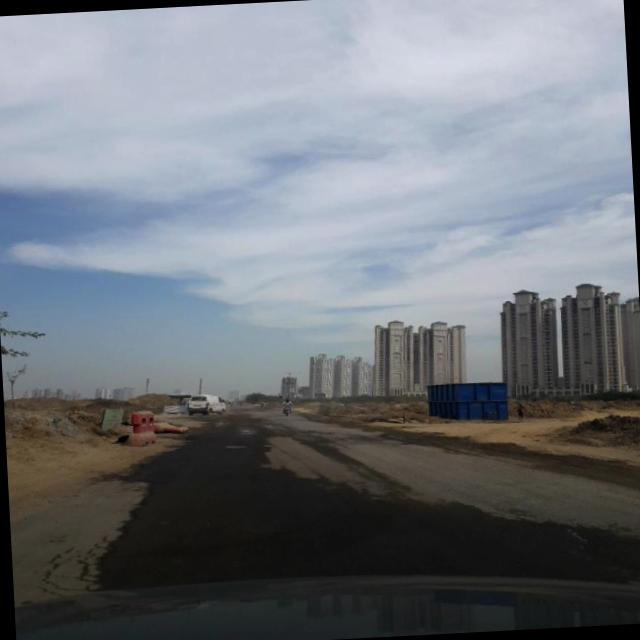crack: (90, 471, 156, 579), (21, 534, 106, 598)
